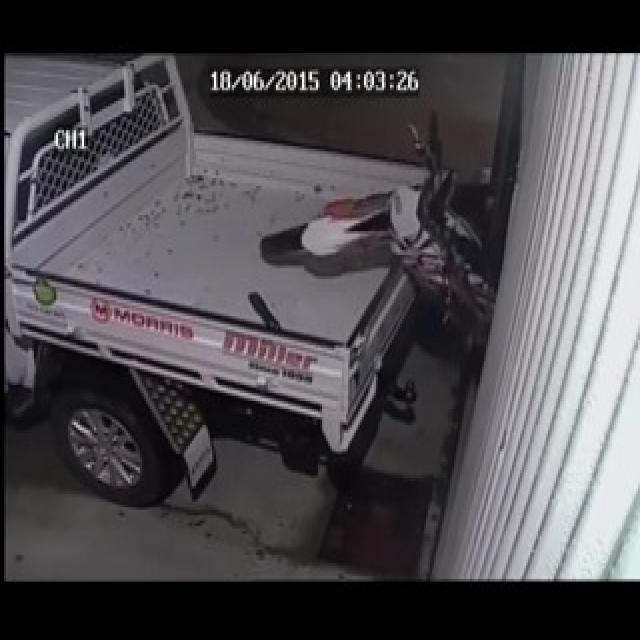burglary: (256, 150, 501, 331)
